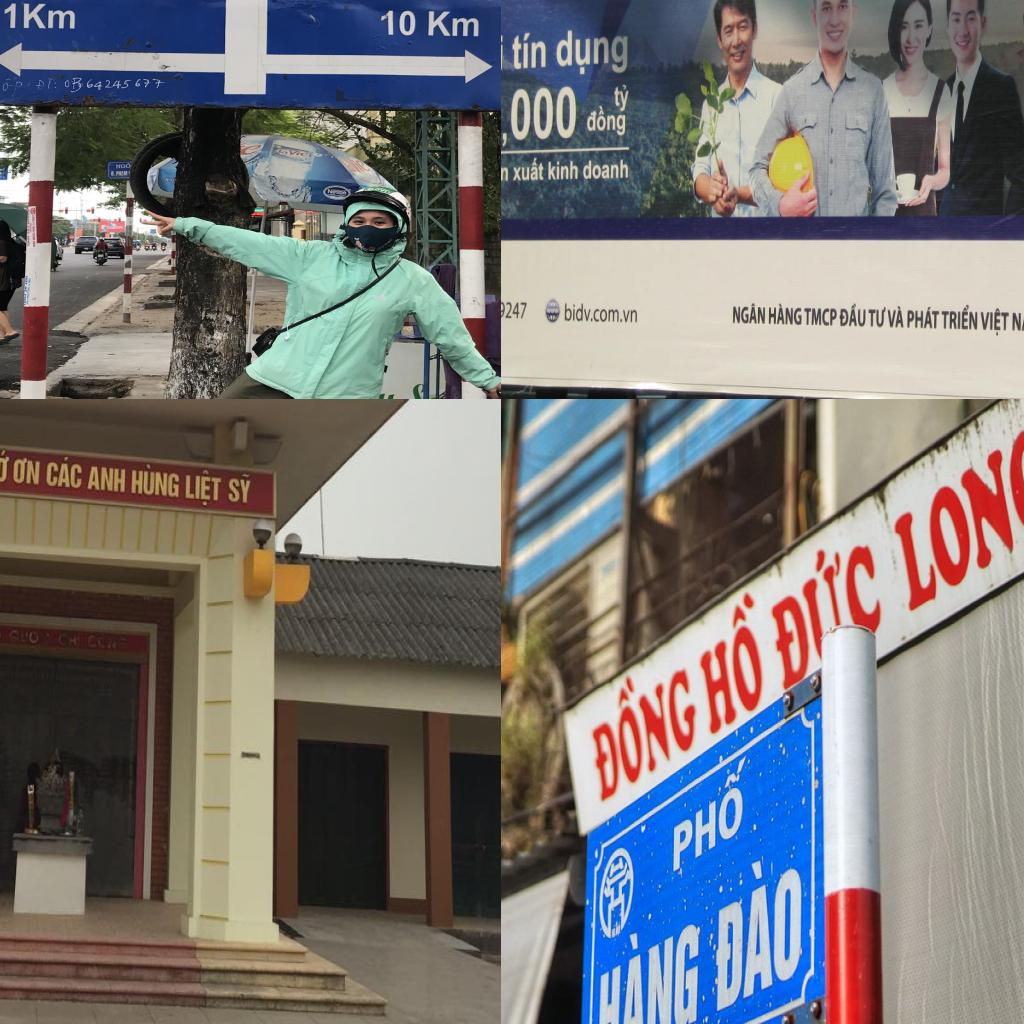text: (891, 415, 1024, 615), (764, 513, 890, 693), (586, 638, 703, 805), (715, 835, 804, 1015), (597, 895, 700, 1024), (693, 586, 766, 740), (673, 754, 748, 876), (509, 85, 580, 145), (556, 27, 629, 78), (61, 72, 166, 96), (562, 298, 640, 325), (505, 29, 550, 75), (424, 9, 486, 41), (130, 462, 181, 500), (20, 1, 79, 32), (583, 105, 632, 140), (184, 466, 222, 508), (376, 6, 422, 38), (46, 454, 84, 490), (582, 158, 632, 183), (85, 465, 127, 494), (940, 304, 980, 332), (0, 69, 34, 100), (730, 301, 768, 328), (904, 303, 940, 331), (512, 155, 545, 185), (978, 307, 1011, 337), (546, 156, 580, 183), (227, 471, 254, 505), (768, 301, 803, 327), (12, 456, 41, 487), (32, 72, 68, 96), (804, 304, 838, 328), (840, 302, 868, 328), (610, 82, 632, 114), (501, 297, 528, 321), (237, 140, 268, 160), (8, 628, 41, 646), (0, 2, 21, 30), (868, 304, 888, 330), (886, 304, 904, 328), (0, 445, 11, 483), (57, 632, 78, 650), (1010, 309, 1024, 333), (100, 224, 127, 234), (326, 188, 350, 196), (501, 161, 510, 182), (87, 634, 99, 649), (501, 132, 510, 148), (0, 628, 3, 643)
